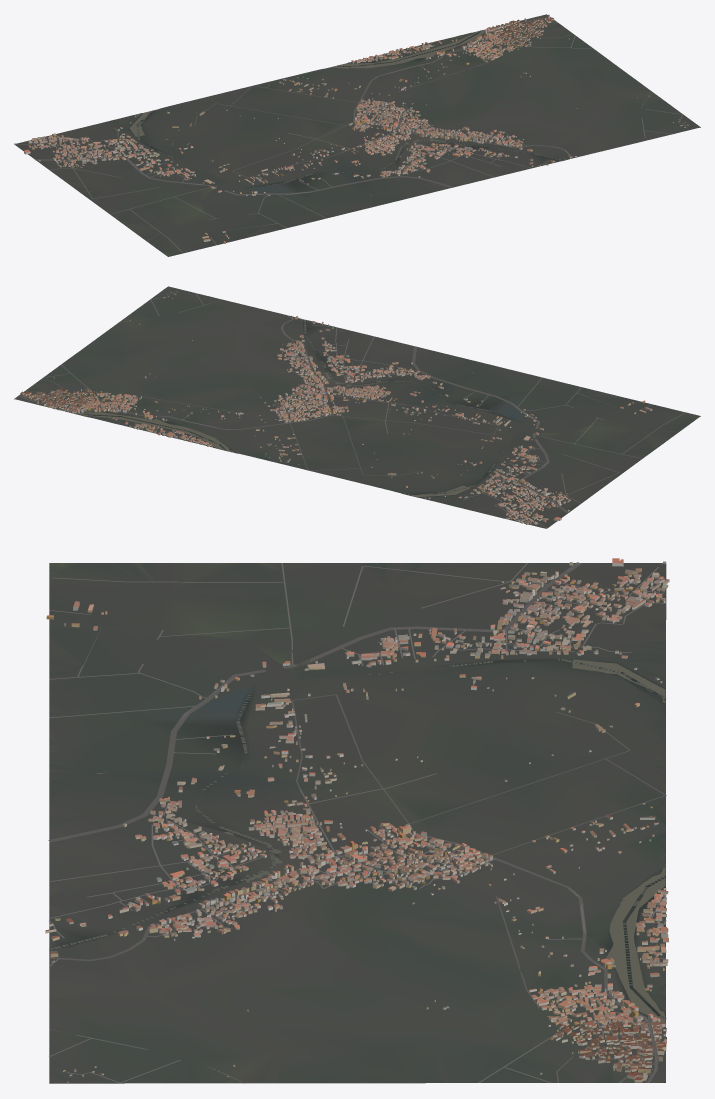
3 renders of one model, top to bottom at view 1: azimuth 30°, elevation 25°; view 2: azimuth 150°, elevation 25°; view 3: azimuth 270°, elevation 25°, orthographic. The views are drawn at different scales.
Parts seen in each view (by area): view 1: ground, buildings, roads, water; view 2: ground, buildings, roads, water; view 3: ground, buildings, roads, water.
Part boxes in pixels (box(x1,y1,x2,y2)): ground: box(14, 14, 700, 256); buildings: box(14, 14, 695, 243); roads: box(15, 17, 685, 252); water: box(129, 29, 566, 187); ground: box(14, 286, 700, 528); buildings: box(20, 289, 652, 528); roads: box(18, 292, 684, 526); water: box(74, 319, 518, 497); ground: box(49, 563, 666, 1083); buildings: box(45, 558, 669, 1082); roads: box(48, 562, 666, 1083); water: box(50, 658, 666, 1023).
Bounding box in the file's own units: 2806 × 23.64 × 1419.
